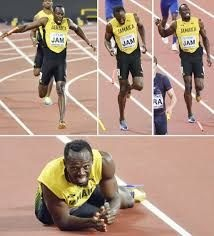falling: (28, 133, 144, 234)
